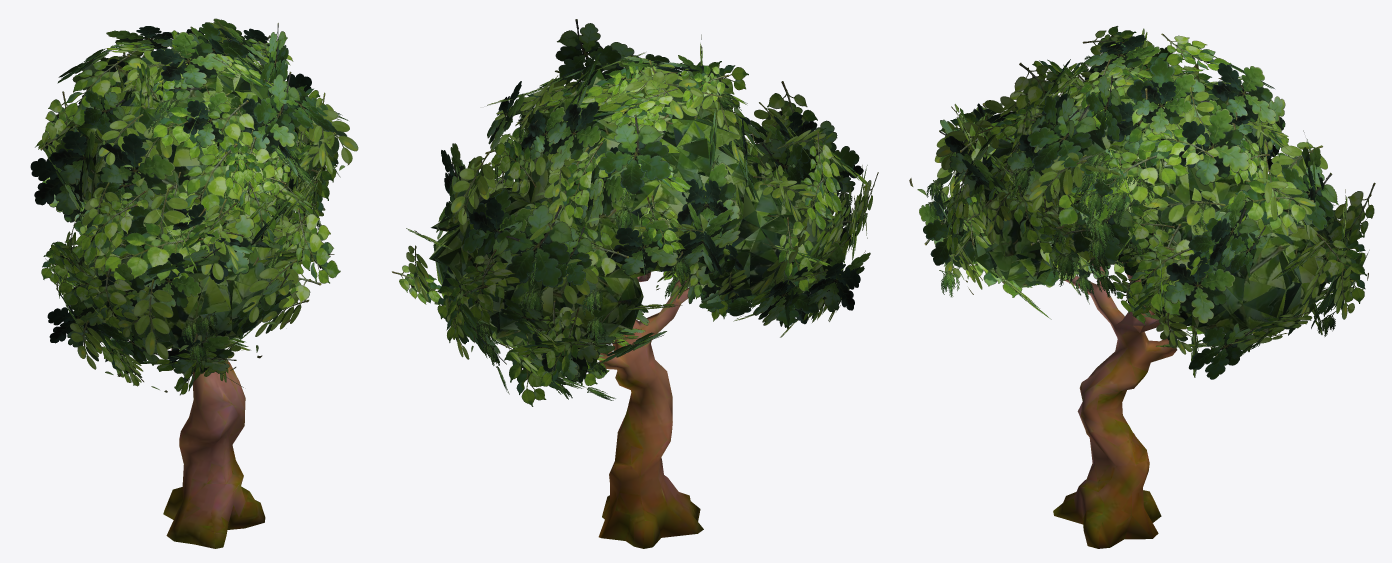
File: oak_5_field.glb
3 views of the same model, side by side, from view 1: azimuth 30°, elevation 25°; view 2: azimuth 150°, elevation 25°; view 3: azimuth 270°, elevation 25° (orthographic).
Visible parts, largest first — view 1: Fable_oak_5; view 2: Fable_oak_5; view 3: Fable_oak_5.
Boxes of the visible parts, x1,y1,x2,y2 form: Fable_oak_5: [30, 18, 358, 548]; Fable_oak_5: [392, 19, 878, 548]; Fable_oak_5: [909, 26, 1375, 548].
Size of the model in its own units: 5.42 by 7.01 by 6.11.
2 materials, 2 textured.
